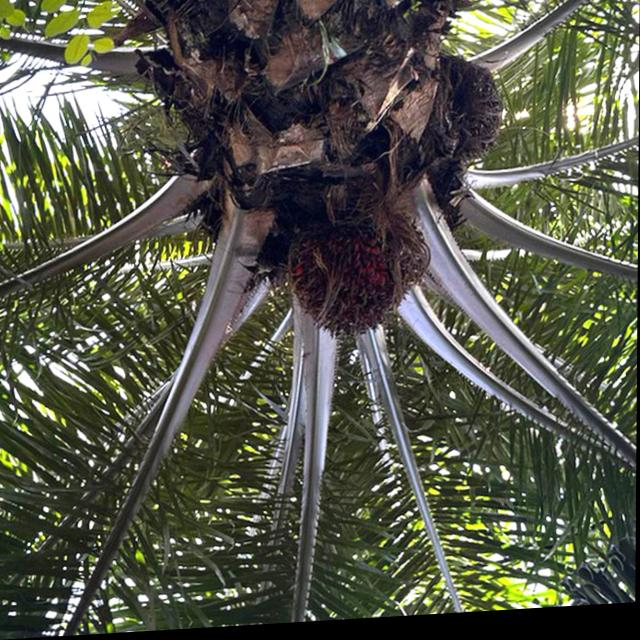ripe: (273, 195, 440, 369)
